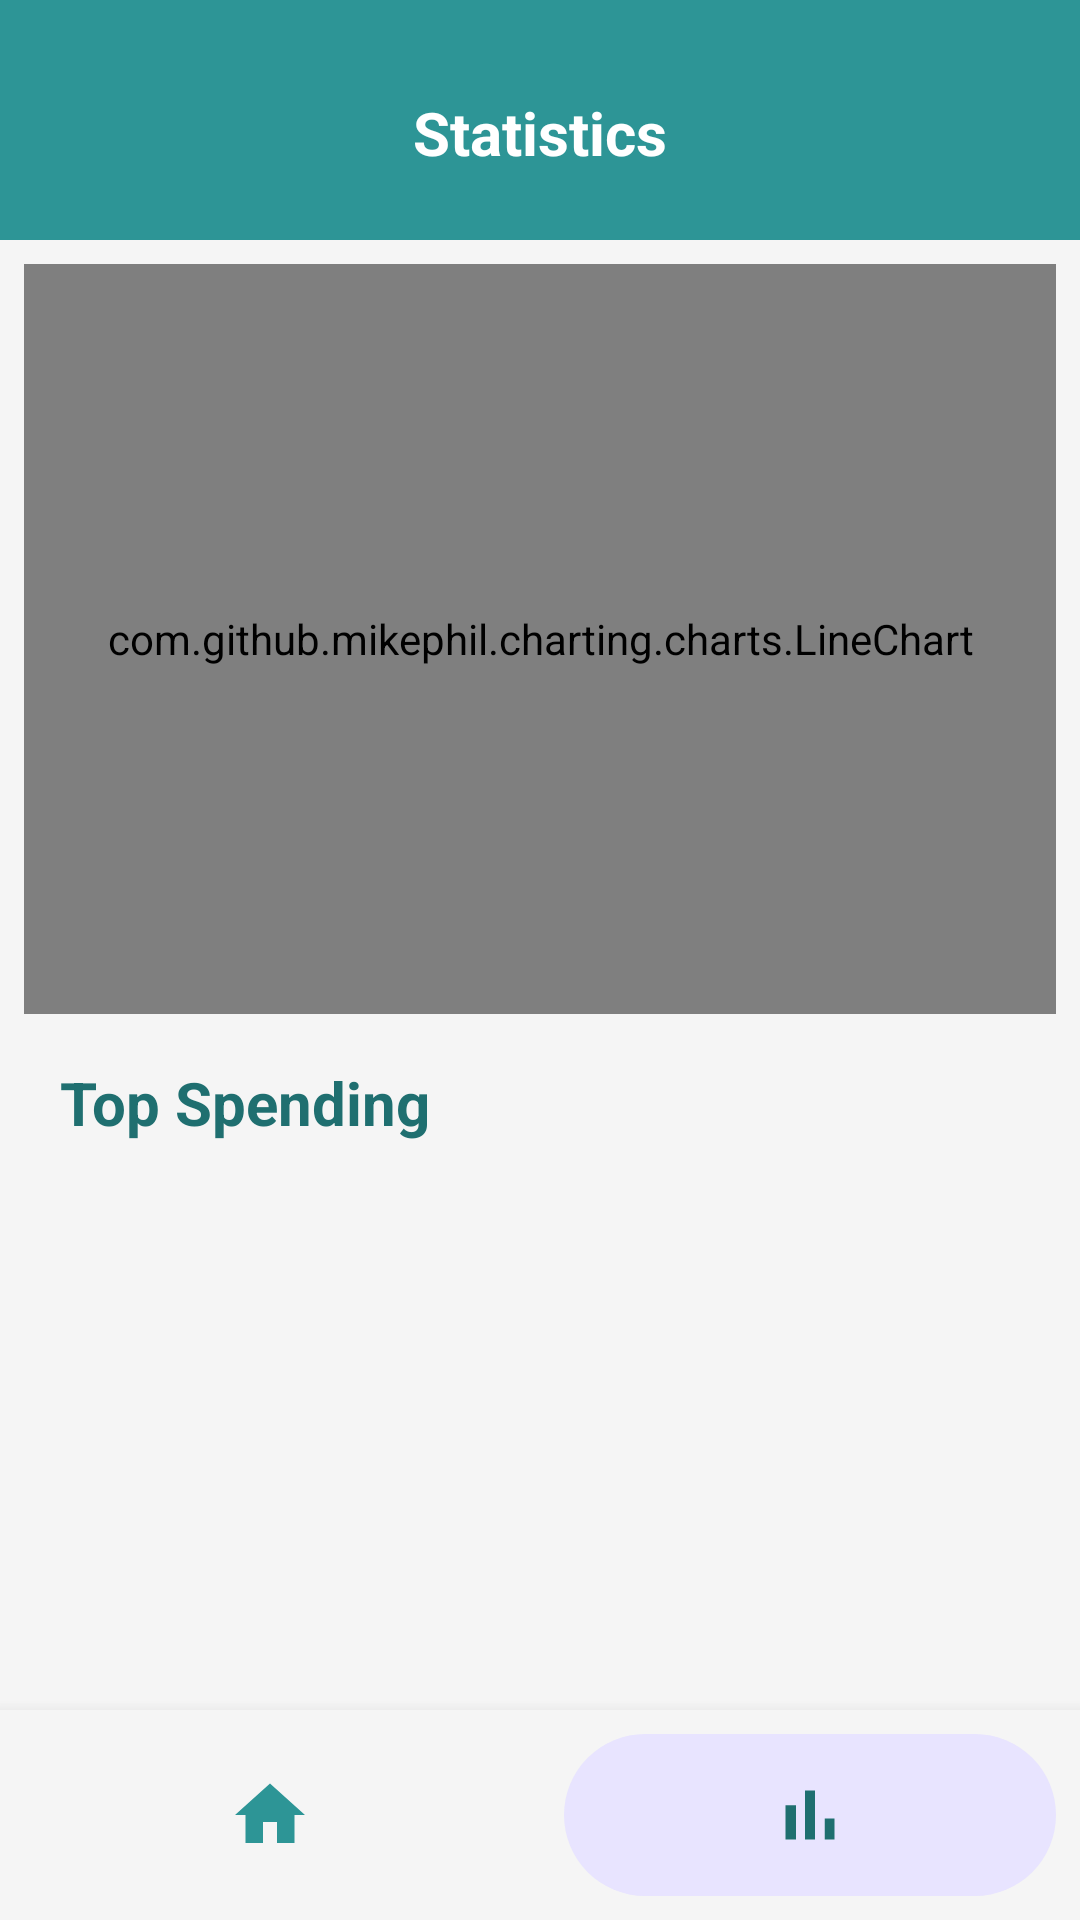

Named icons in this screenshot (1080*1920) and their bounding boxes, {"x1": x1, "y1": y1, "x2": x2, "y2": y2}:
Home: {"x1": 235, "y1": 1783, "x2": 305, "y2": 1843}
Statistics: {"x1": 785, "y1": 1790, "x2": 835, "y2": 1840}
